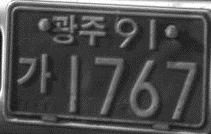1: (69, 52, 80, 114), (148, 17, 159, 53)
6: (127, 58, 162, 120)
7: (94, 54, 127, 117), (166, 60, 199, 121)
9: (115, 15, 139, 50)
가: (17, 52, 51, 95)
광주_O: (51, 13, 106, 47)
